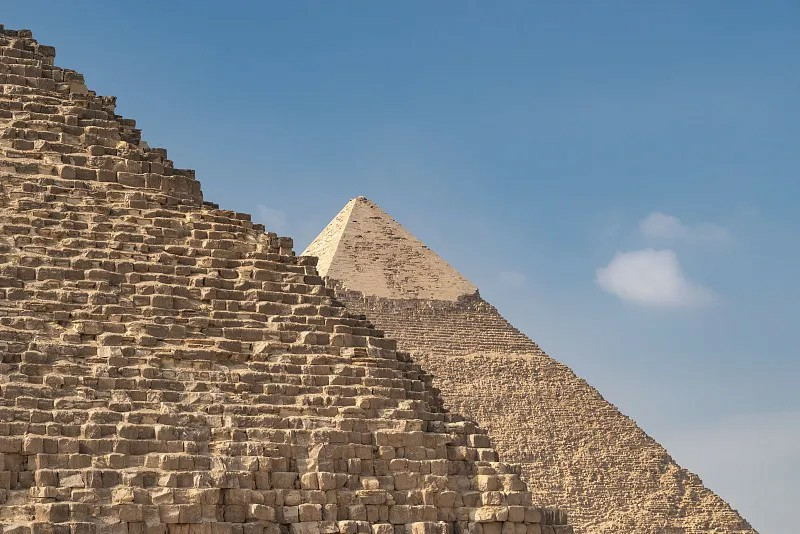Pyramid: (1, 23, 575, 534), (301, 199, 759, 534)
